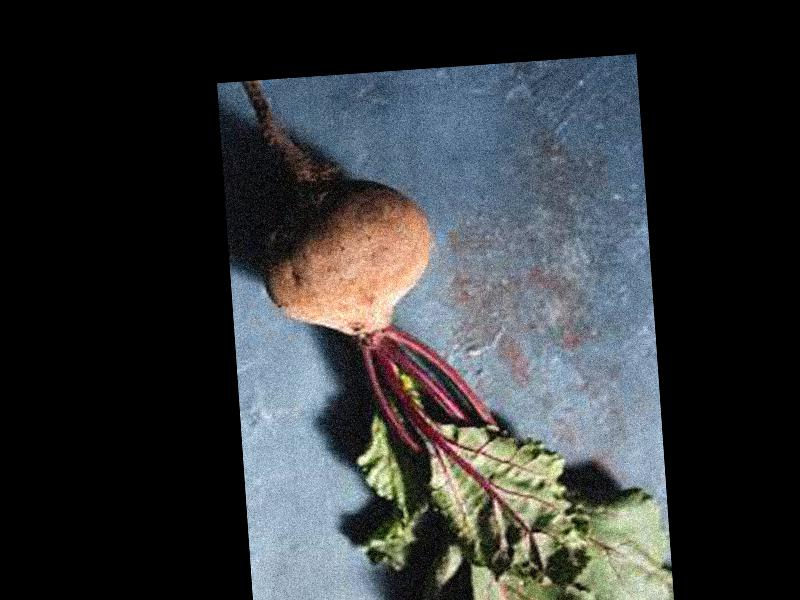Beet: (244, 56, 672, 600)
